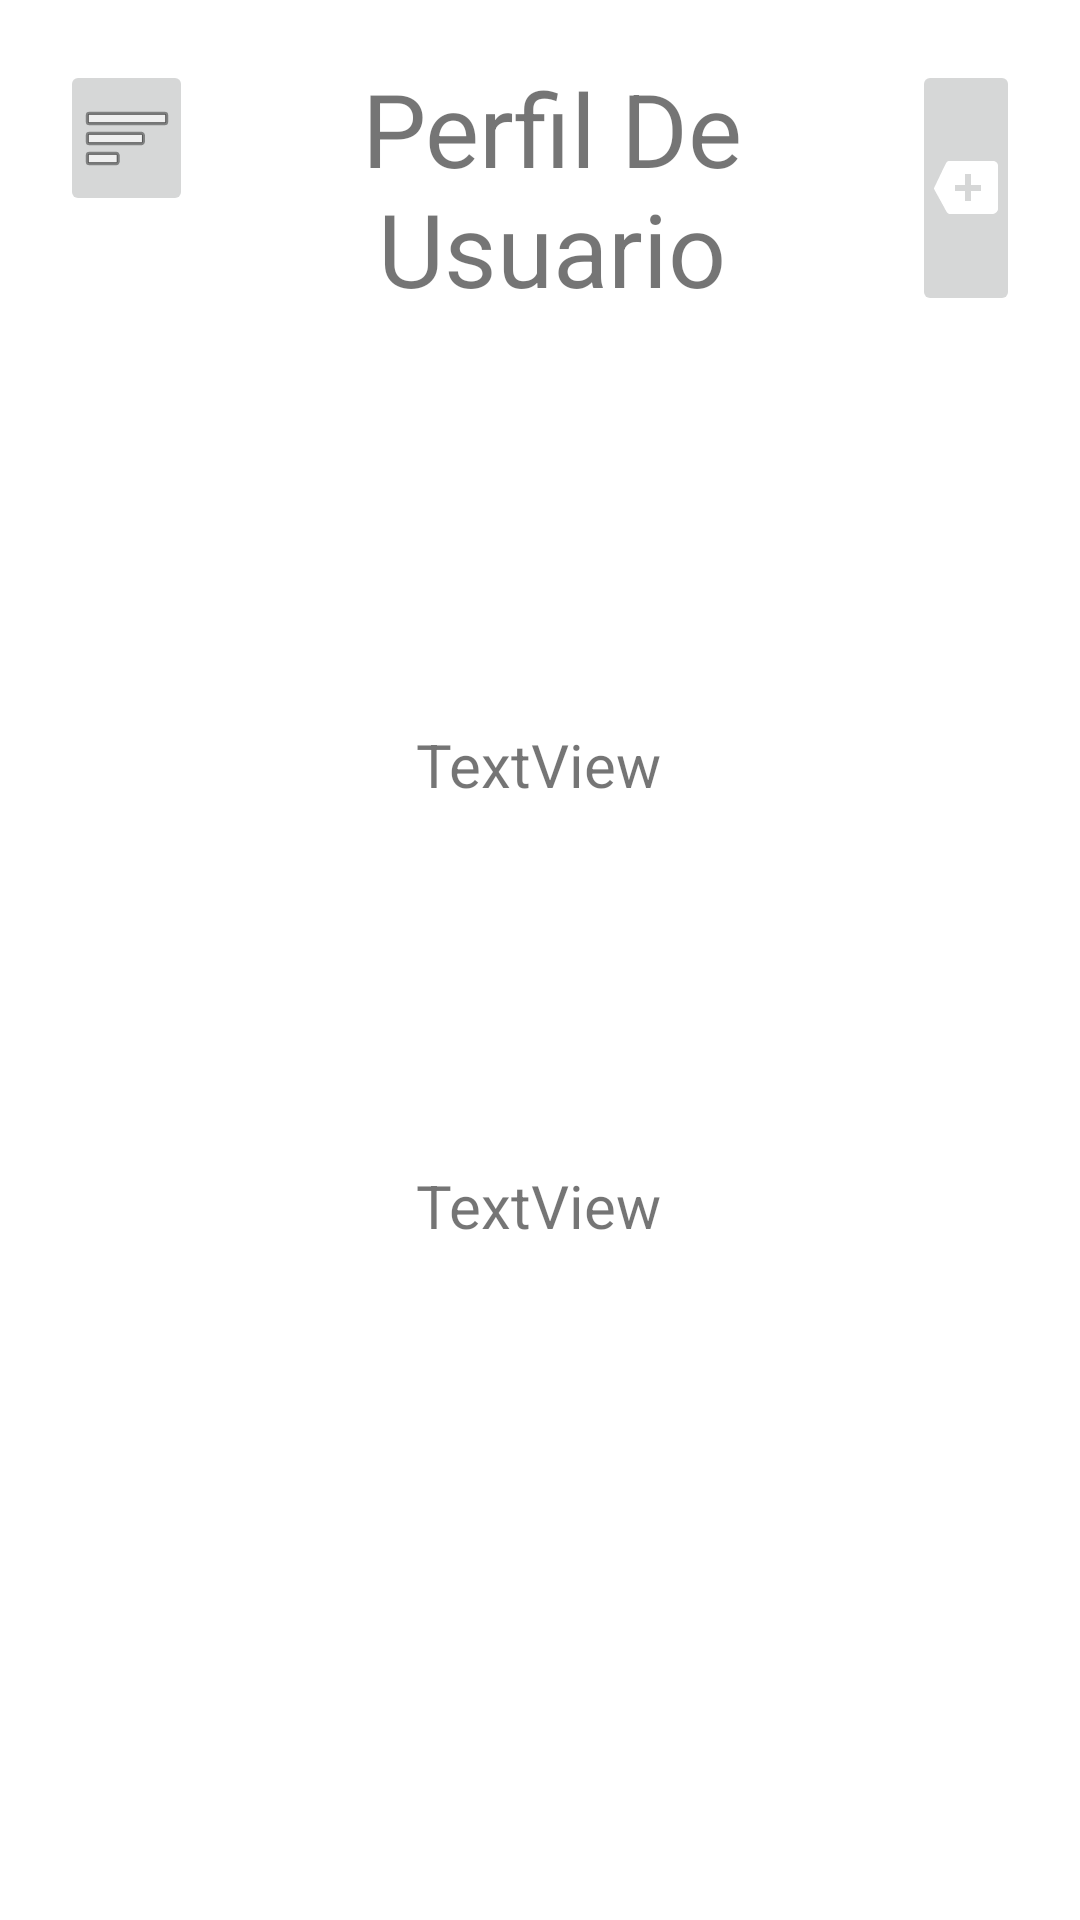

Icons on this 1080px x 1920px Android screen, each with its box as (x1, y1, x2, y2):
sort by size: (72, 78, 181, 198)
